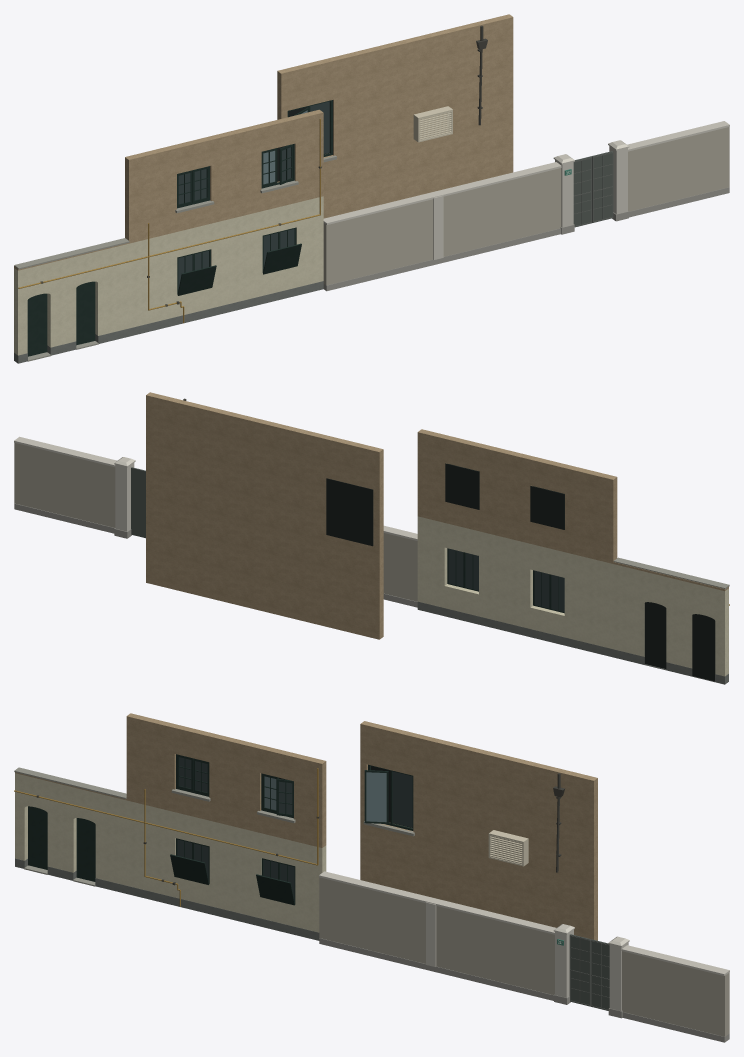
Rendered from full-source.glb.
The picture shows the model from 3 angles, top to bottom: view 1: azimuth 30°, elevation 25°; view 2: azimuth 150°, elevation 25°; view 3: azimuth 330°, elevation 25°; orthographic projection.
Parts seen in each view (by area): view 1: 长乐坊337号院门与相邻临街窗墙; view 2: 长乐坊337号院门与相邻临街窗墙; view 3: 长乐坊337号院门与相邻临街窗墙.
Boxes of the visible parts, <box> form: 长乐坊337号院门与相邻临街窗墙: <box>14,14,729,363</box>; 长乐坊337号院门与相邻临街窗墙: <box>14,392,729,684</box>; 长乐坊337号院门与相邻临街窗墙: <box>14,713,729,1042</box>.
Size of the model in its own units: 22.43 by 5.64 by 2.71.
18 materials, 4 textured.
